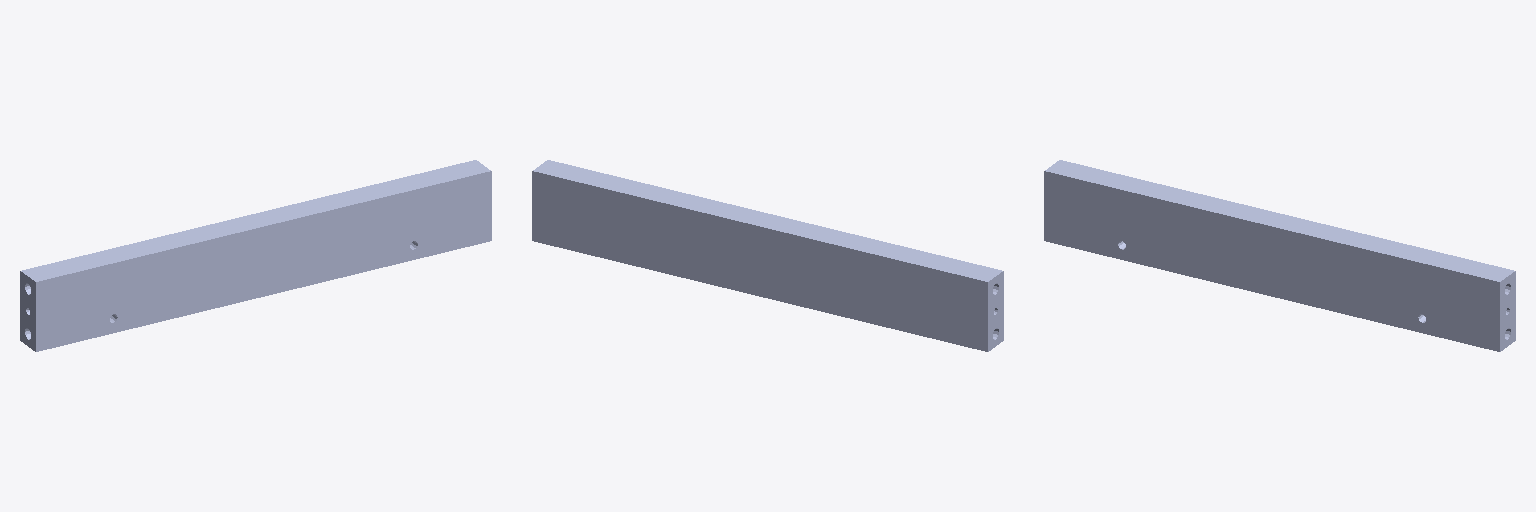
robot.urdf — part2:
<?xml version="1.0" encoding="utf-8"?>
<!-- This URDF was automatically created by SolidWorks to URDF Exporter! Originally created by [author] ([email redacted]) 
     Commit Version: 1.5.1-0-g916b5db  Build Version: 1.5.7152.31018
     For more information, please see http://wiki.ros.org/sw_urdf_exporter -->
<robot name="part2">
  <link name="part2">
    <inertial>
      <origin
        xyz="0 -0.0099923 3.19400000000006E-05"
        rpy="0 0 0" />
      <mass
        value="0.33374" />
      <inertia
        ixx="8.0767E-05"
        ixy="2.1544E-20"
        ixz="-1.202E-21"
        iyy="0.0031965"
        iyz="-3.73900000000036E-08"
        izz="0.0031383" />
    </inertial>
    <visual>
      <origin
        xyz="0 0 0"
        rpy="1.5707963267949 0 0" />
      <geometry>
        <mesh
          filename="package://cai_env/meshes/part2.STL" />
      </geometry>
      <material
        name="">
        <color
          rgba="0.79216 0.81961 0.93333 1" />
        <texture
          filename="package://cai_env/textures/" />
      </material>
    </visual>
    <collision>
      <origin
        xyz="0 0 0"
        rpy="1.5707963267949 0 0" />
      <geometry>
        <mesh
          filename="package://cai_env/meshes/part2.STL" />
      </geometry>
    </collision>
  </link>
  
  <gazebo reference="part2">
    <material>Gazebo/SkyBlue</material>
  </gazebo>

</robot>

--- Facts derived from the render (not from the file) ---
Views: 3 orthographic renders of the robot side by side, from view 1: azimuth 30°, elevation 25°; view 2: azimuth 150°, elevation 25°; view 3: azimuth 330°, elevation 25°.
Model part2 with 1 links and 0 joints (none), rooted at part2, posed every joint at zero.
Visible links, largest first — view 1: part2; view 2: part2; view 3: part2.
Boxes of the visible links, x1,y1,x2,y2 form: part2: (20, 160, 491, 351); part2: (532, 160, 1003, 351); part2: (1044, 160, 1515, 351).
Size in the robot's own frame: 0.34 by 0.02 by 0.05 metres.
Meshes: 1 distinct files referenced, 1 mesh visuals loaded (1 binary STL).
